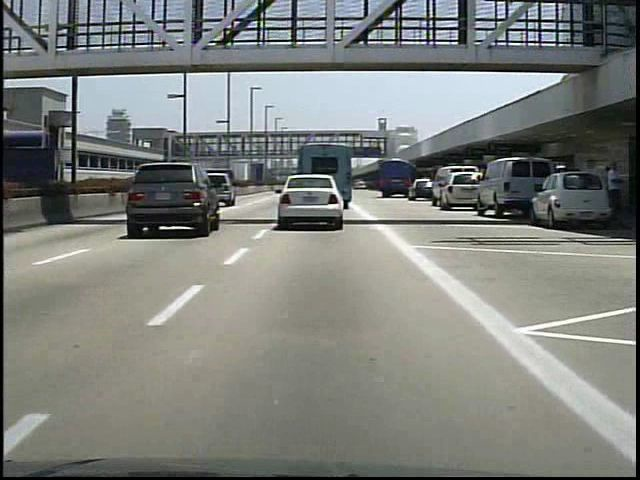person: (602, 153, 629, 230)
